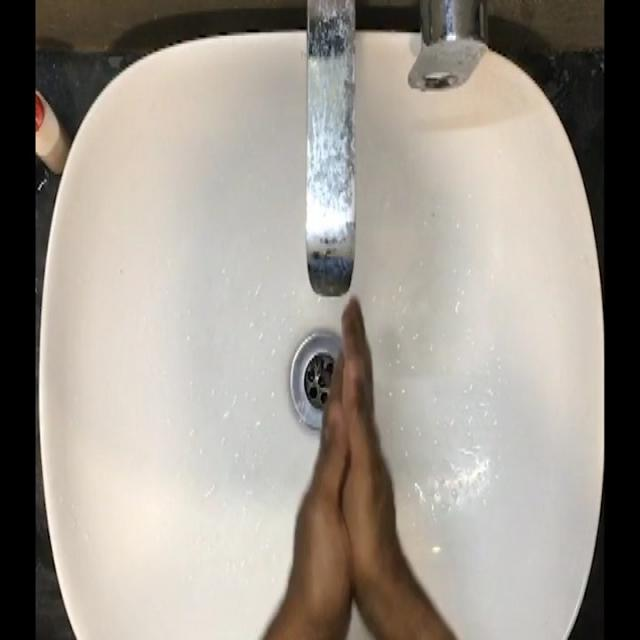step_1: (275, 284, 419, 618)
